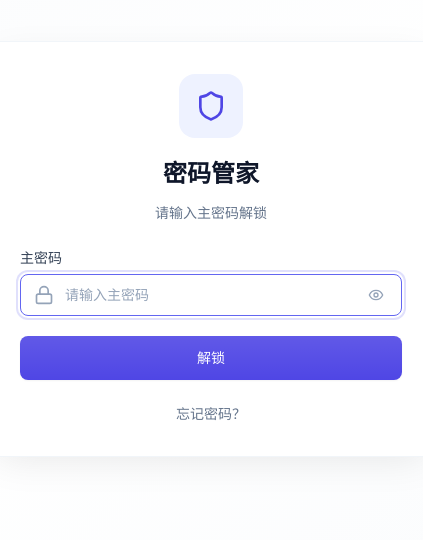
Test: LoginPage › forgot password flow › should show forgot password view when clicked
Click the button "忘记密码？" at (211, 414), box [20,404,402,424]
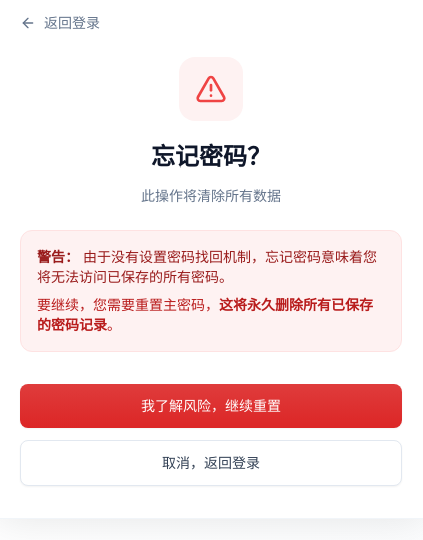
Expected: the heading "忘记密码？" is shown, [151,142,271,170]
Expected: the text "此操作将清除所有数据" is shown, [141,186,281,204]
